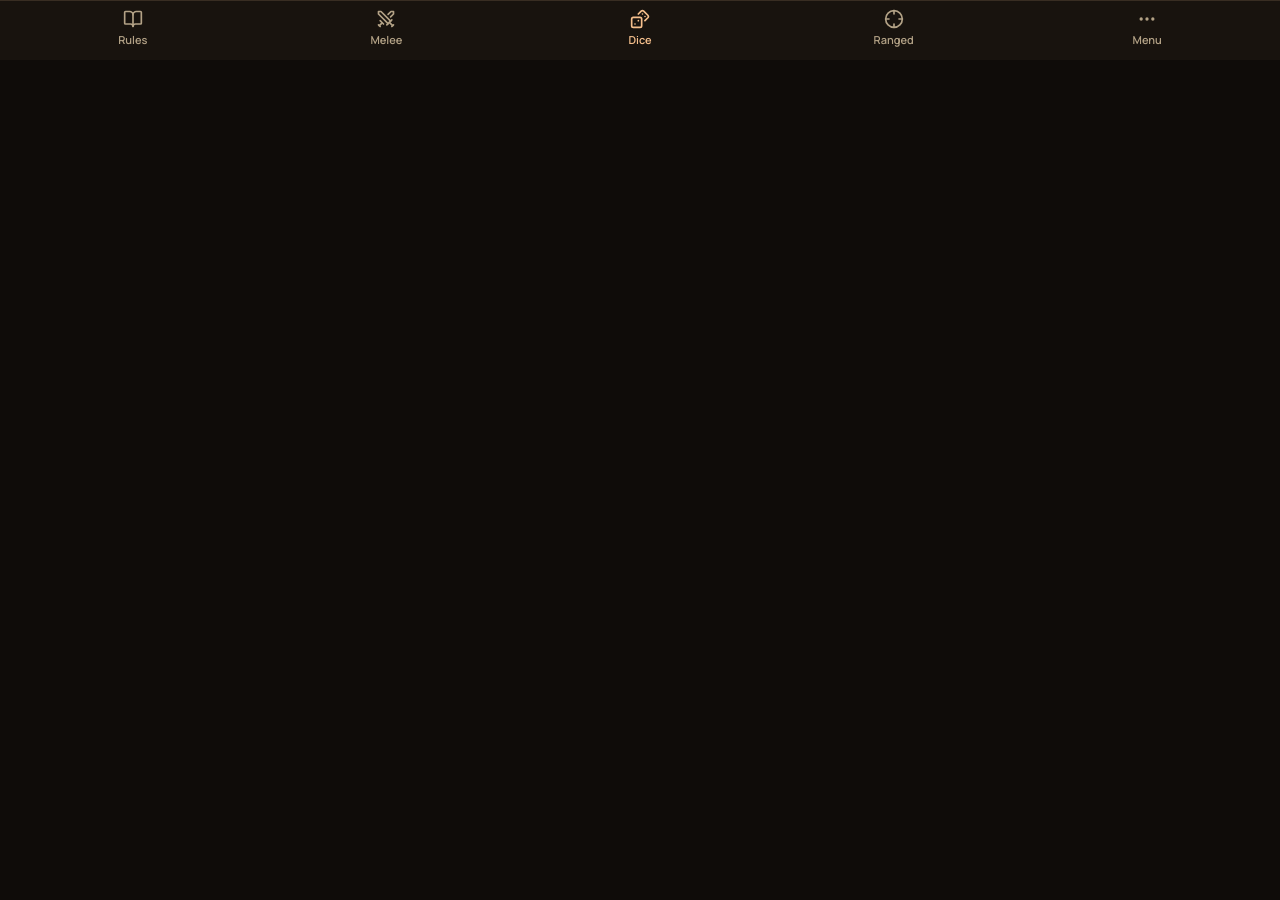
BattleToolsBar › holds the battle's own actions only, as the active battle's menu does
Step 1. Click the button "Menu" → (1147, 26), box [1020,0,1274,52]
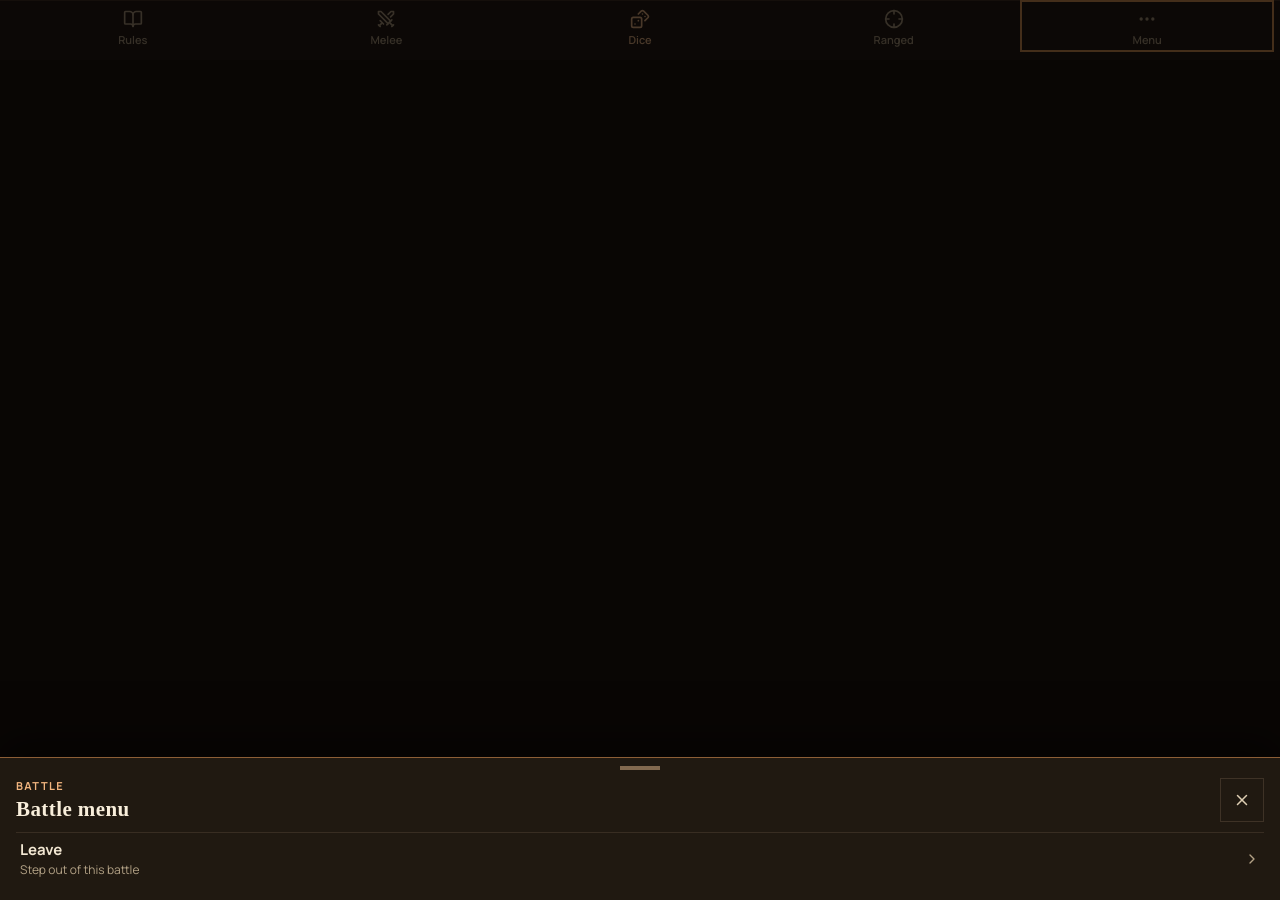
Result: the button "Leave Step out of this battle" is shown at [16,832,1264,884]
